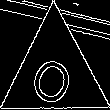O_NE: (27, 39, 82, 106)
